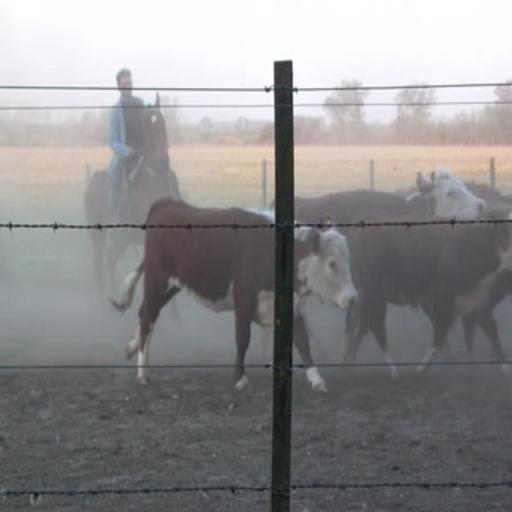Horse: (82, 87, 181, 332)
